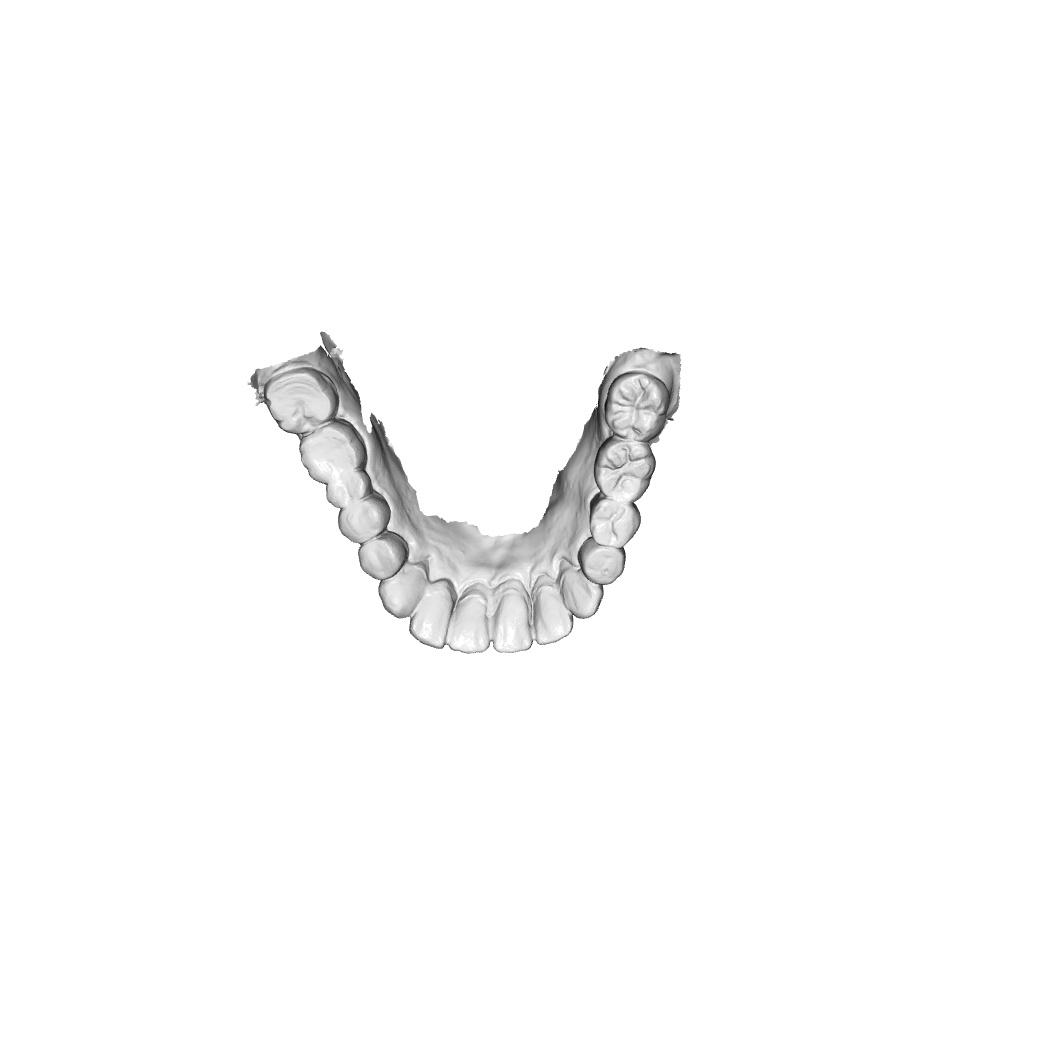canine: (378, 562, 427, 619), (559, 569, 605, 620)
incisor: (408, 577, 455, 649), (445, 583, 491, 655), (491, 577, 534, 653), (530, 576, 574, 646)
molar: (263, 367, 339, 436), (603, 372, 671, 443), (298, 419, 368, 485), (593, 435, 657, 503)
premolar: (337, 489, 392, 545), (589, 491, 642, 549), (357, 529, 409, 582), (576, 536, 626, 585), (325, 469, 373, 509)
